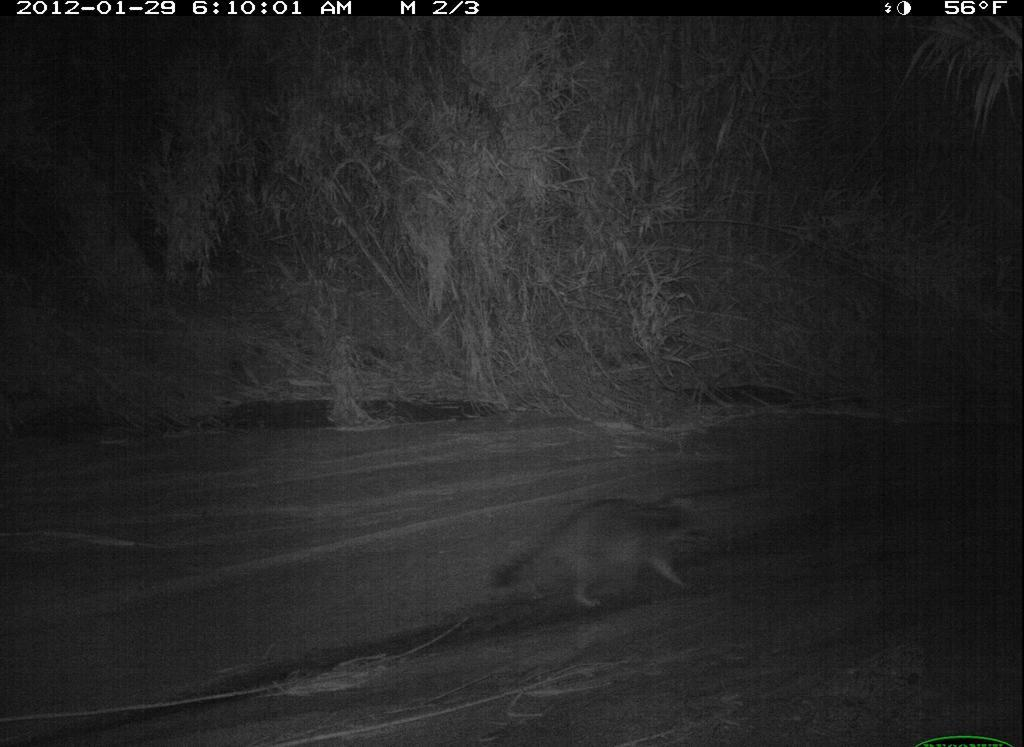raccoon: (491, 481, 715, 615)
